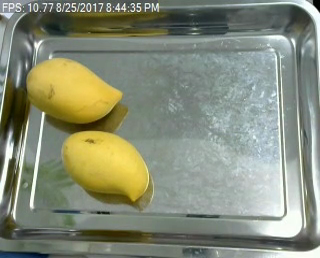Mango: (59, 129, 155, 206), (23, 56, 123, 127)
